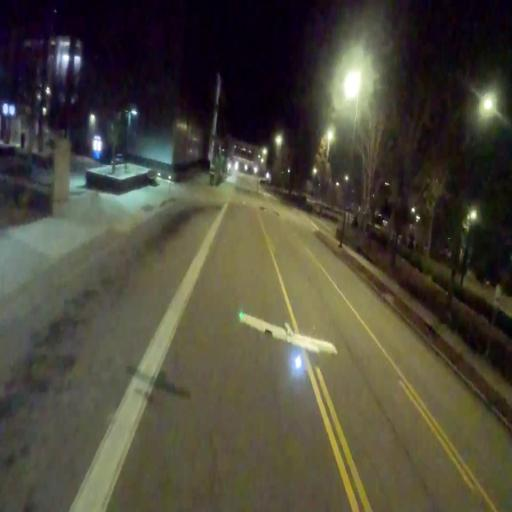uav: (234, 304, 340, 378)
